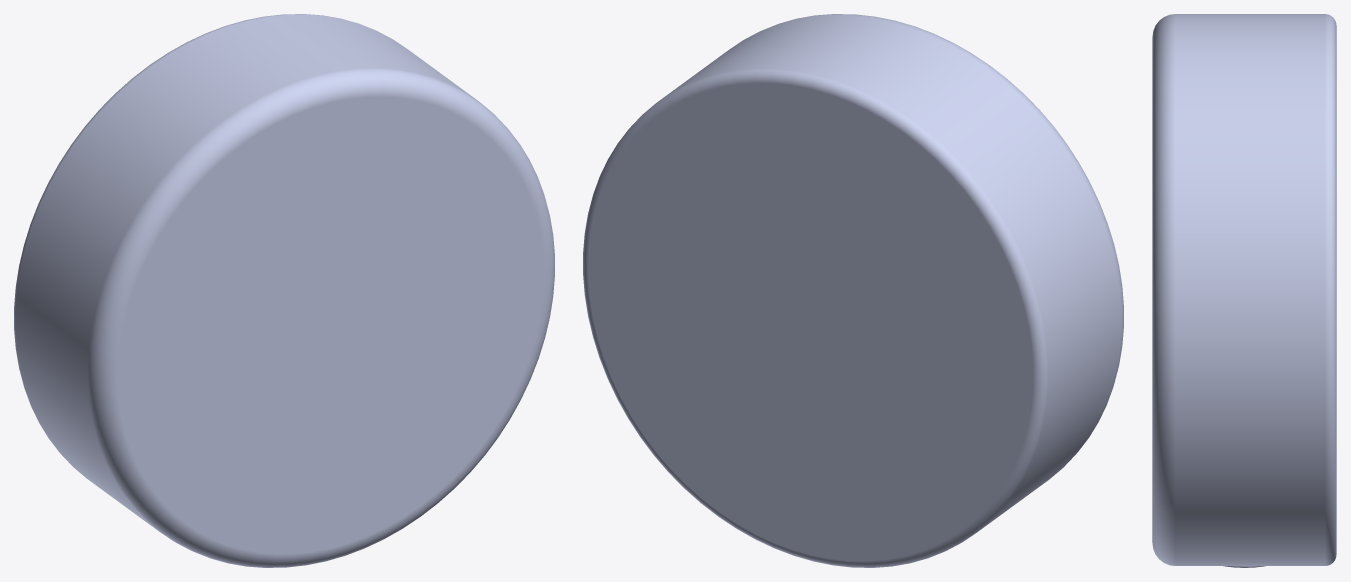
3 renders of one model, left to right at view 1: azimuth 30°, elevation 25°; view 2: azimuth 150°, elevation 25°; view 3: azimuth 270°, elevation 25°, orthographic. The views are drawn at different scales.
Visible parts, largest first — view 1: 3DGeom~17; view 2: 3DGeom~17; view 3: 3DGeom~17.
Part boxes in pixels (left/top/right/bottom): 3DGeom~17: left=14, top=14, right=554, bottom=567; 3DGeom~17: left=583, top=14, right=1123, bottom=567; 3DGeom~17: left=1152, top=14, right=1336, bottom=567.
Size of the model in its own units: 0.2398 by 0.242 by 0.08.
